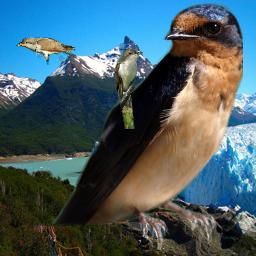Cuckoo: (115, 46, 143, 129), (16, 37, 76, 65)
Swallow: (51, 2, 243, 250)
